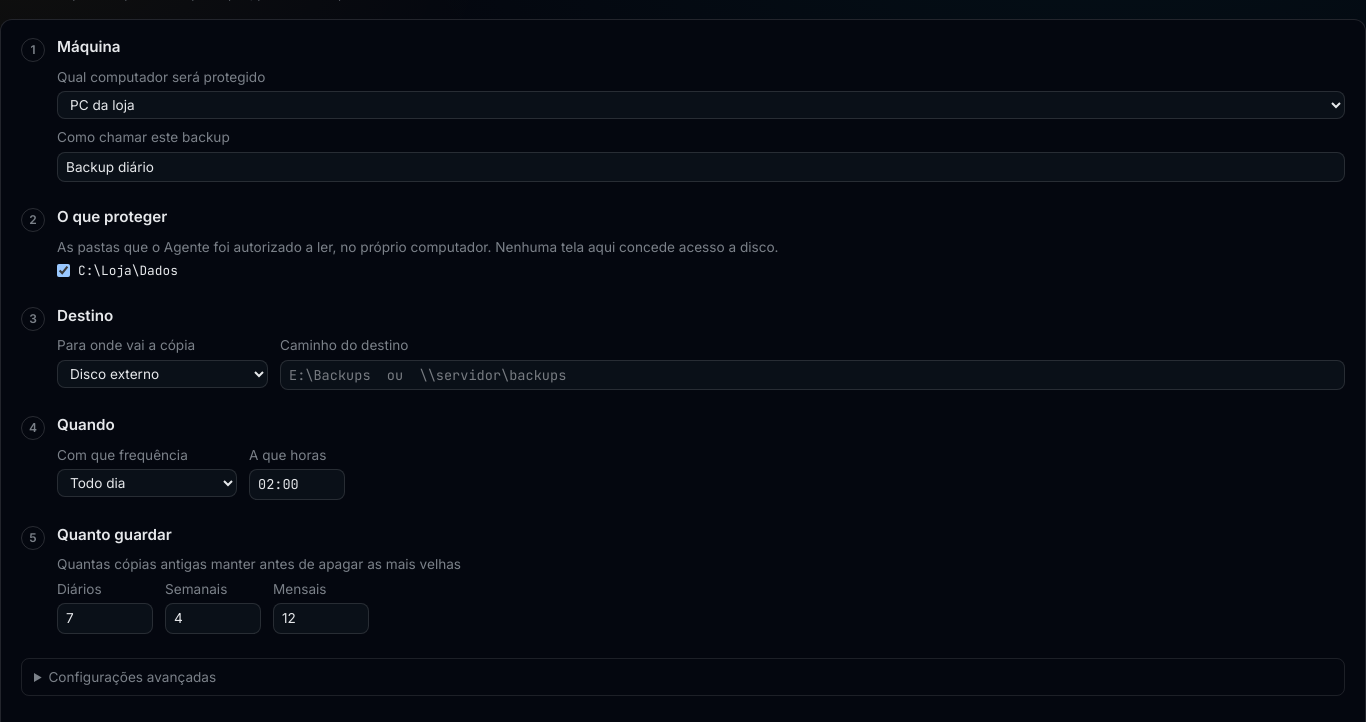
Test: Políticas de backup › salva mandando as opções escolhidas
Expected: the text "C:\\Loja\\Dados" is shown, [78, 261, 178, 280]
Type "E:\\Backups" into the field labelled "Caminho do destino" at [812, 375], box [280, 360, 1345, 390]
(page scrolled)
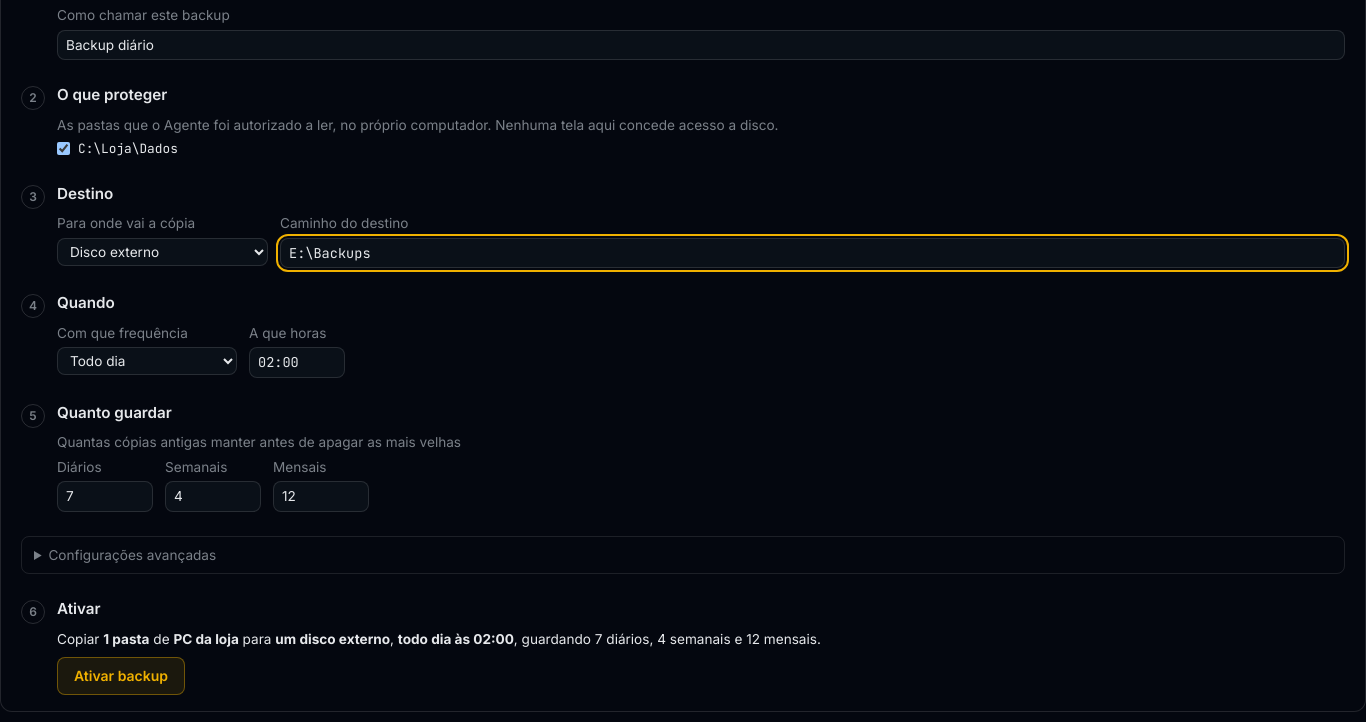
Click the button "Ativar backup" at [121, 676], box [57, 657, 185, 695]
(page scrolled)
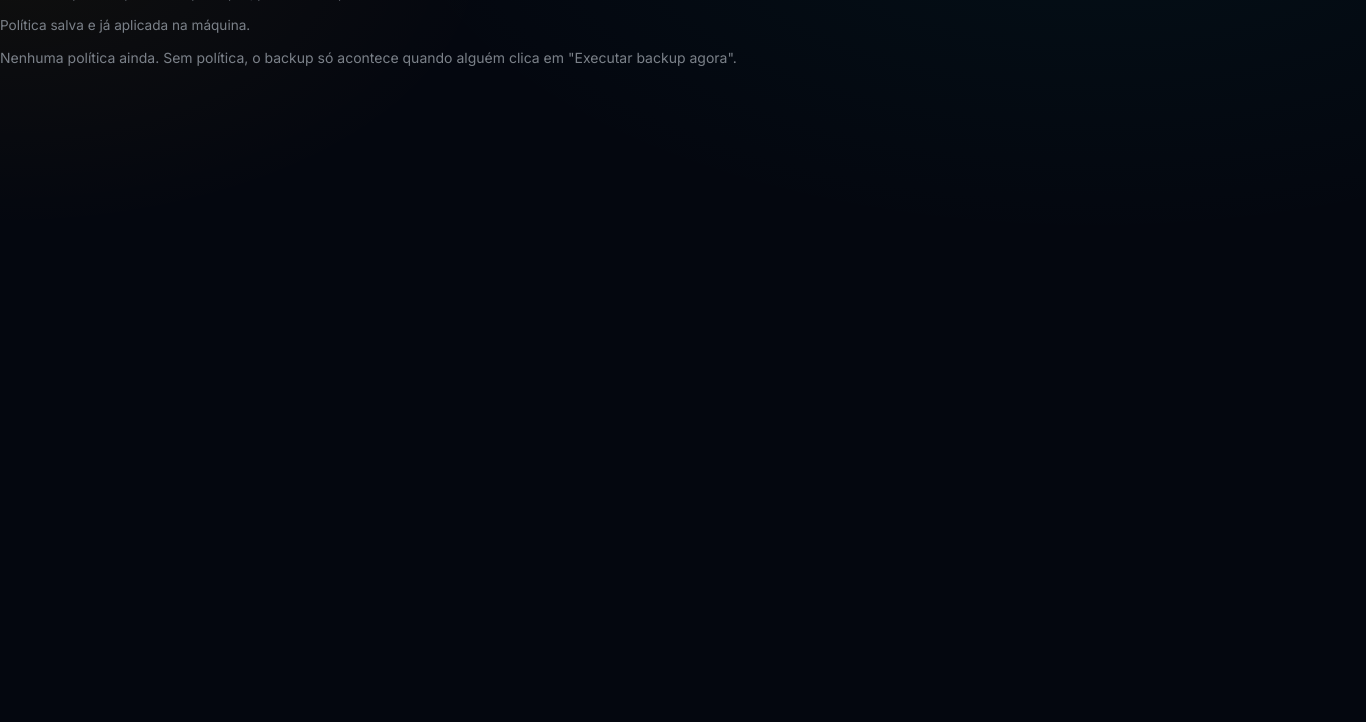
Now the text "Política salva e já aplicada na máquina." is shown, box [0, 17, 250, 33]
